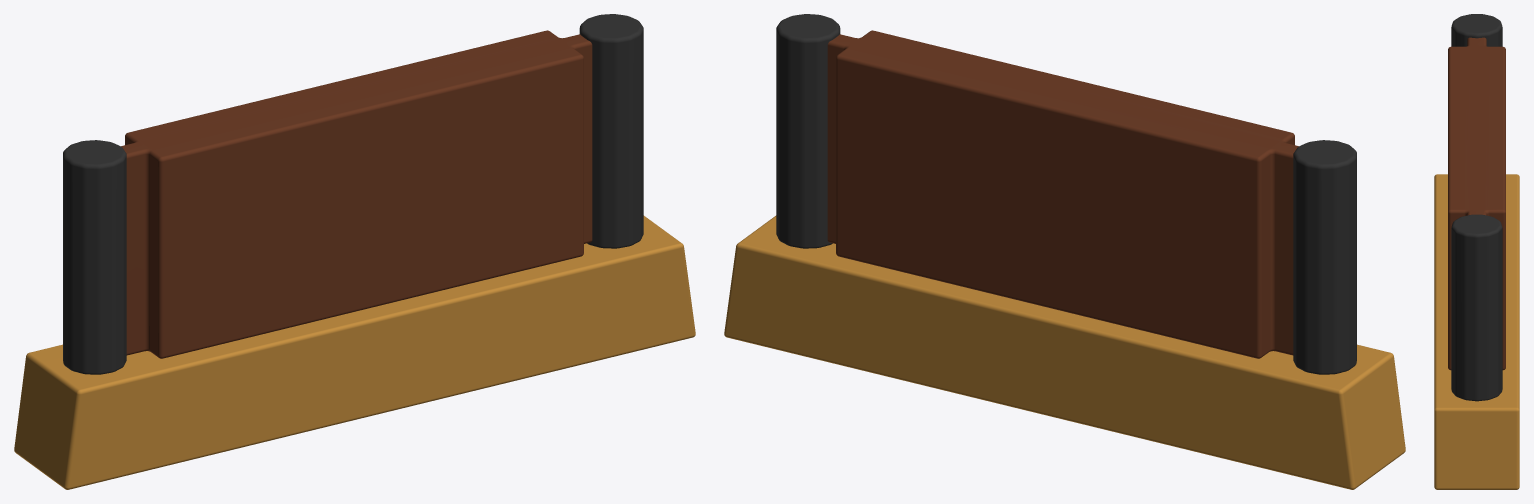
Rendered from DiamondHeadSign3.fbx.
3 renders of one model, left to right at view 1: azimuth 30°, elevation 25°; view 2: azimuth 150°, elevation 25°; view 3: azimuth 270°, elevation 25°, orthographic. The views are drawn at different scales.
Parts seen in each view (by area): view 1: pCube544; view 2: pCube544; view 3: pCube544.
Part boxes in pixels (x1,y1,x2,y2): pCube544: [14, 14, 695, 489]; pCube544: [724, 14, 1405, 489]; pCube544: [1434, 14, 1519, 489].
Bounding box in the file's own units: 31.23 × 14.5 × 4.6.
